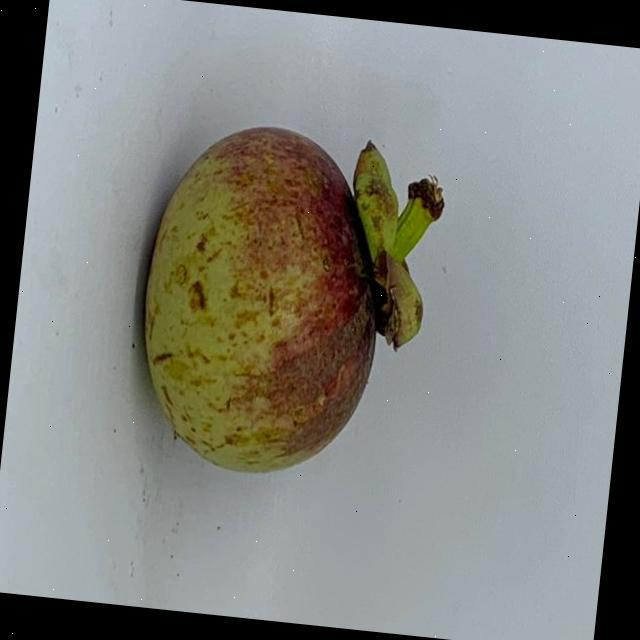mangosteen: (126, 101, 457, 496)
